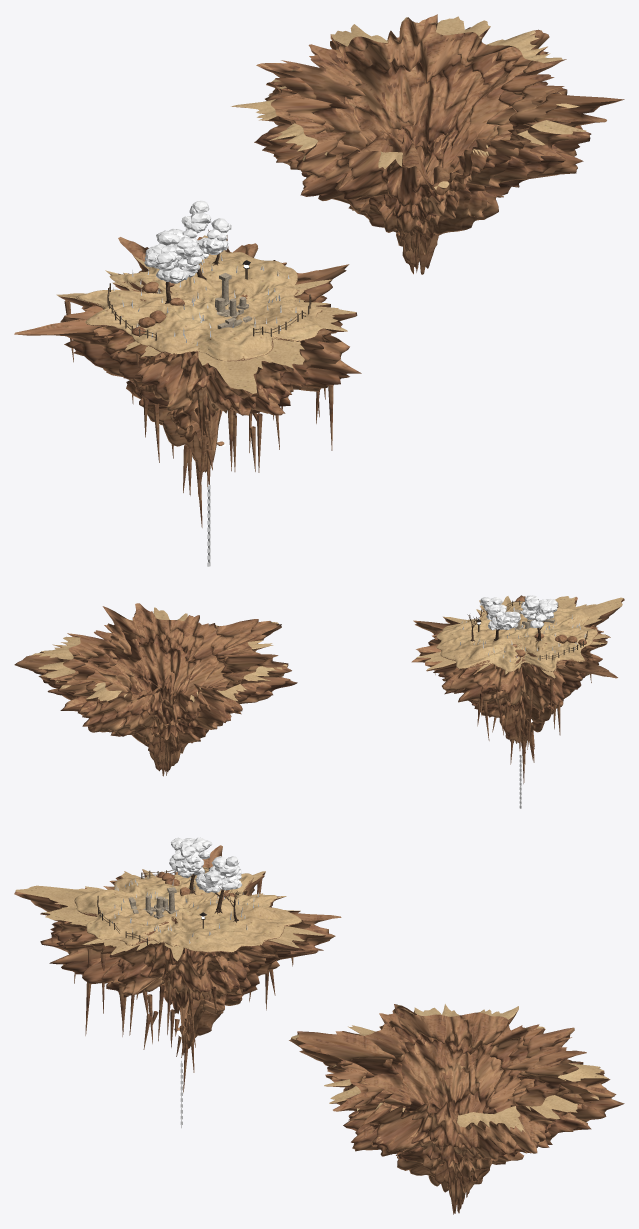
File: map_islands_04.glb
3 renders of one model, top to bottom at view 1: azimuth 30°, elevation 25°; view 2: azimuth 150°, elevation 25°; view 3: azimuth 270°, elevation 25°, orthographic. The views are drawn at different scales.
Visible parts, largest first — view 1: Isl02_under__cliff_00, Isl03_under__cliff_00, Isl02_under__cliff_01, Isl03_top__sand_00, Isl03_under__cliff_01, Isl03_top__sand_01, Isl03_top__sand_02, Isl02_under__cliff_02, Isl02_under__sand, Isl03_props__leaf_00, Isl03_props__cliff, Isl03_props__stone; view 2: Isl02_under__cliff_00, Isl02_under__cliff_01, Isl03_under__cliff_00, Isl03_top__sand_00, Isl03_top__sand_01, Isl02_under__sand, Isl03_under__cliff_01, Isl03_top__sand_02, Isl03_props__cliff, Isl03_props__leaf_00, Isl02_under__cliff_02, Isl03_props__leaf_01 (+1 smaller); view 3: Isl02_under__cliff_00, Isl03_under__cliff_00, Isl02_under__cliff_01, Isl03_under__cliff_01, Isl03_top__sand_00, Isl03_top__sand_02, Isl03_top__sand_01, Isl02_under__sand, Isl03_props__cliff, Isl03_props__leaf_00, Isl02_under__cliff_02, Isl03_props__stone.
Part boxes in pixels (left/top/right/bottom): Isl02_under__cliff_00: left=232, top=14, right=624, bottom=218; Isl03_under__cliff_00: left=14, top=235, right=361, bottom=422; Isl02_under__cliff_01: left=332, top=46, right=583, bottom=274; Isl03_top__sand_00: left=90, top=254, right=290, bottom=343; Isl03_under__cliff_01: left=126, top=264, right=349, bottom=472; Isl03_top__sand_01: left=85, top=236, right=307, bottom=365; Isl03_top__sand_02: left=56, top=235, right=356, bottom=393; Isl02_under__cliff_02: left=396, top=131, right=511, bottom=274; Isl02_under__sand: left=231, top=16, right=586, bottom=189; Isl03_props__leaf_00: left=113, top=200, right=299, bottom=345; Isl03_props__cliff: left=64, top=281, right=333, bottom=527; Isl03_props__stone: left=215, top=273, right=252, bottom=328; Isl02_under__cliff_00: left=14, top=603, right=297, bottom=737; Isl02_under__cliff_01: left=53, top=630, right=217, bottom=776; Isl03_under__cliff_00: left=411, top=595, right=624, bottom=714; Isl03_top__sand_00: left=448, top=610, right=588, bottom=666; Isl03_top__sand_01: left=419, top=604, right=601, bottom=674; Isl02_under__sand: left=32, top=607, right=287, bottom=702; Isl03_under__cliff_01: left=413, top=617, right=571, bottom=750; Isl03_top__sand_02: left=416, top=596, right=623, bottom=678; Isl03_props__cliff: left=434, top=633, right=591, bottom=783; Isl03_props__leaf_00: left=460, top=595, right=585, bottom=661; Isl02_under__cliff_02: left=131, top=675, right=197, bottom=773; Isl03_props__leaf_01: left=488, top=611, right=520, bottom=630; Isl02_under__cliff_00: left=289, top=1004, right=624, bottom=1156; Isl03_under__cliff_00: left=14, top=845, right=341, bottom=997; Isl02_under__cliff_01: left=343, top=1088, right=526, bottom=1213; Isl03_under__cliff_01: left=40, top=933, right=242, bottom=1055; Isl03_top__sand_00: left=102, top=871, right=286, bottom=944; Isl03_top__sand_02: left=15, top=869, right=325, bottom=961; Isl03_top__sand_01: left=82, top=867, right=300, bottom=952; Isl02_under__sand: left=291, top=1004, right=608, bottom=1132; Isl03_props__cliff: left=74, top=871, right=293, bottom=1092; Isl03_props__leaf_00: left=101, top=837, right=258, bottom=943; Isl02_under__cliff_02: left=394, top=1147, right=504, bottom=1214; Isl03_props__stone: left=128, top=887, right=178, bottom=918.
Size of the model in its own units: 249 by 110 by 219.
Materials: 9 (6 with a texture image).
